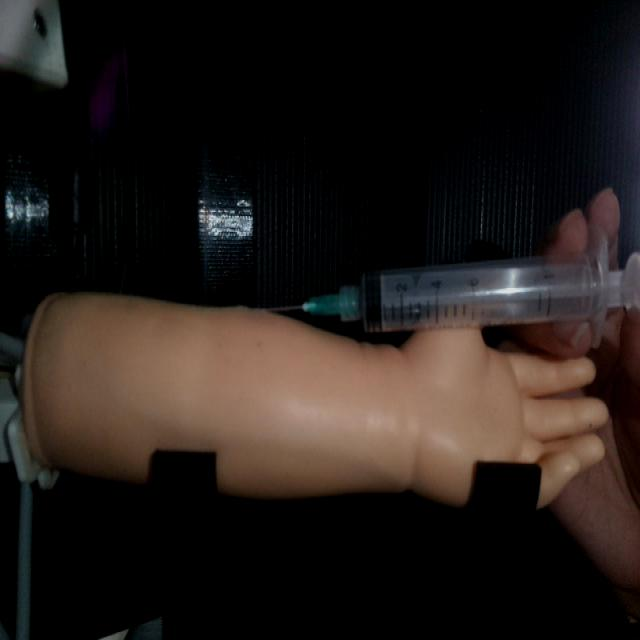Below 15 degrees: (263, 235, 638, 340)
